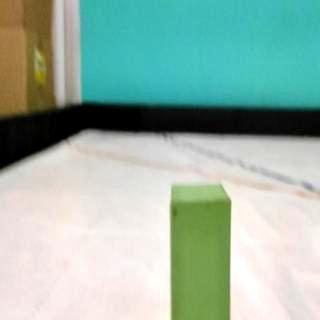greenbox: (171, 178, 234, 320)
